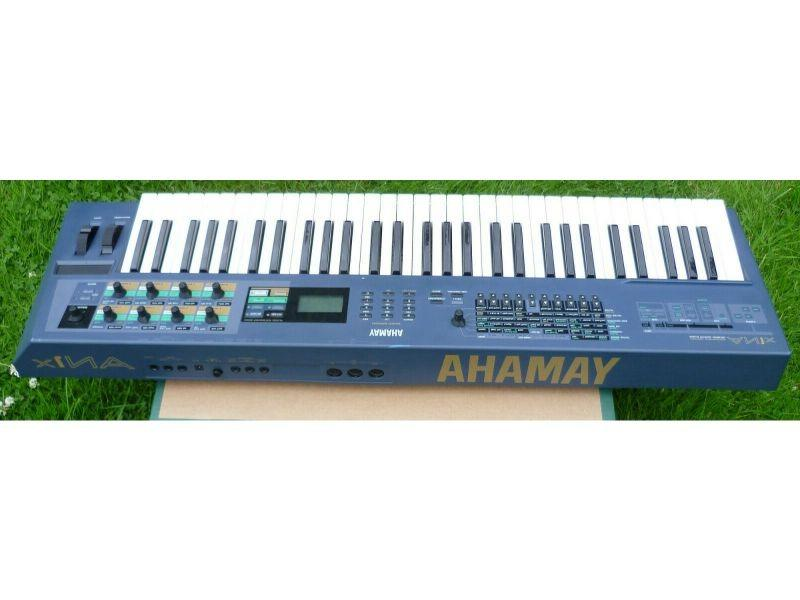synthesizer: (23, 187, 789, 401)
